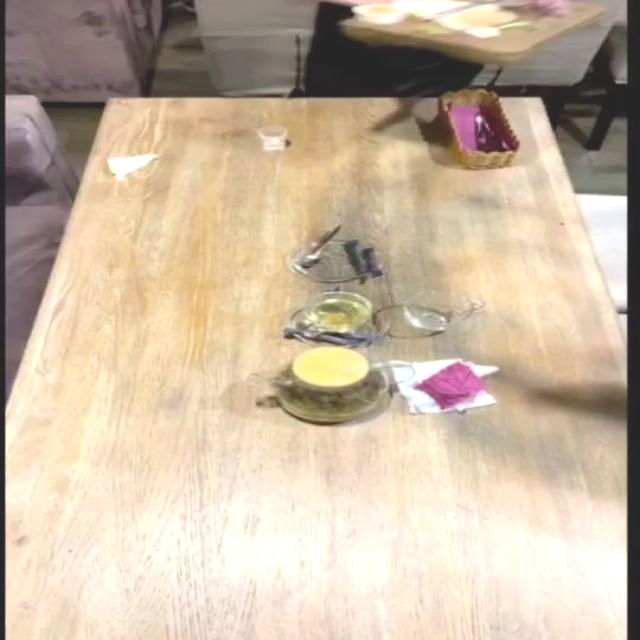tea: (267, 345, 392, 423)
